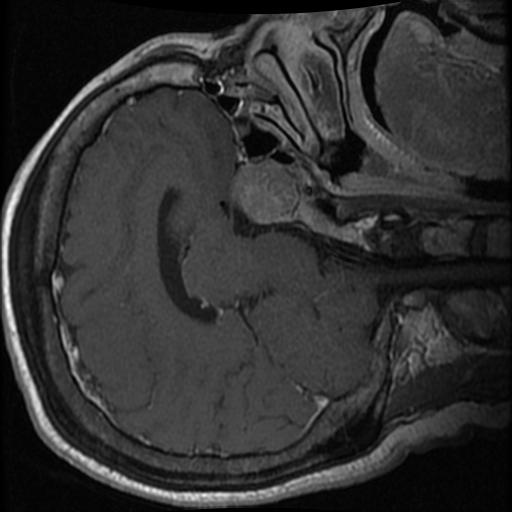pituitary tumour: (232, 163, 295, 224)
